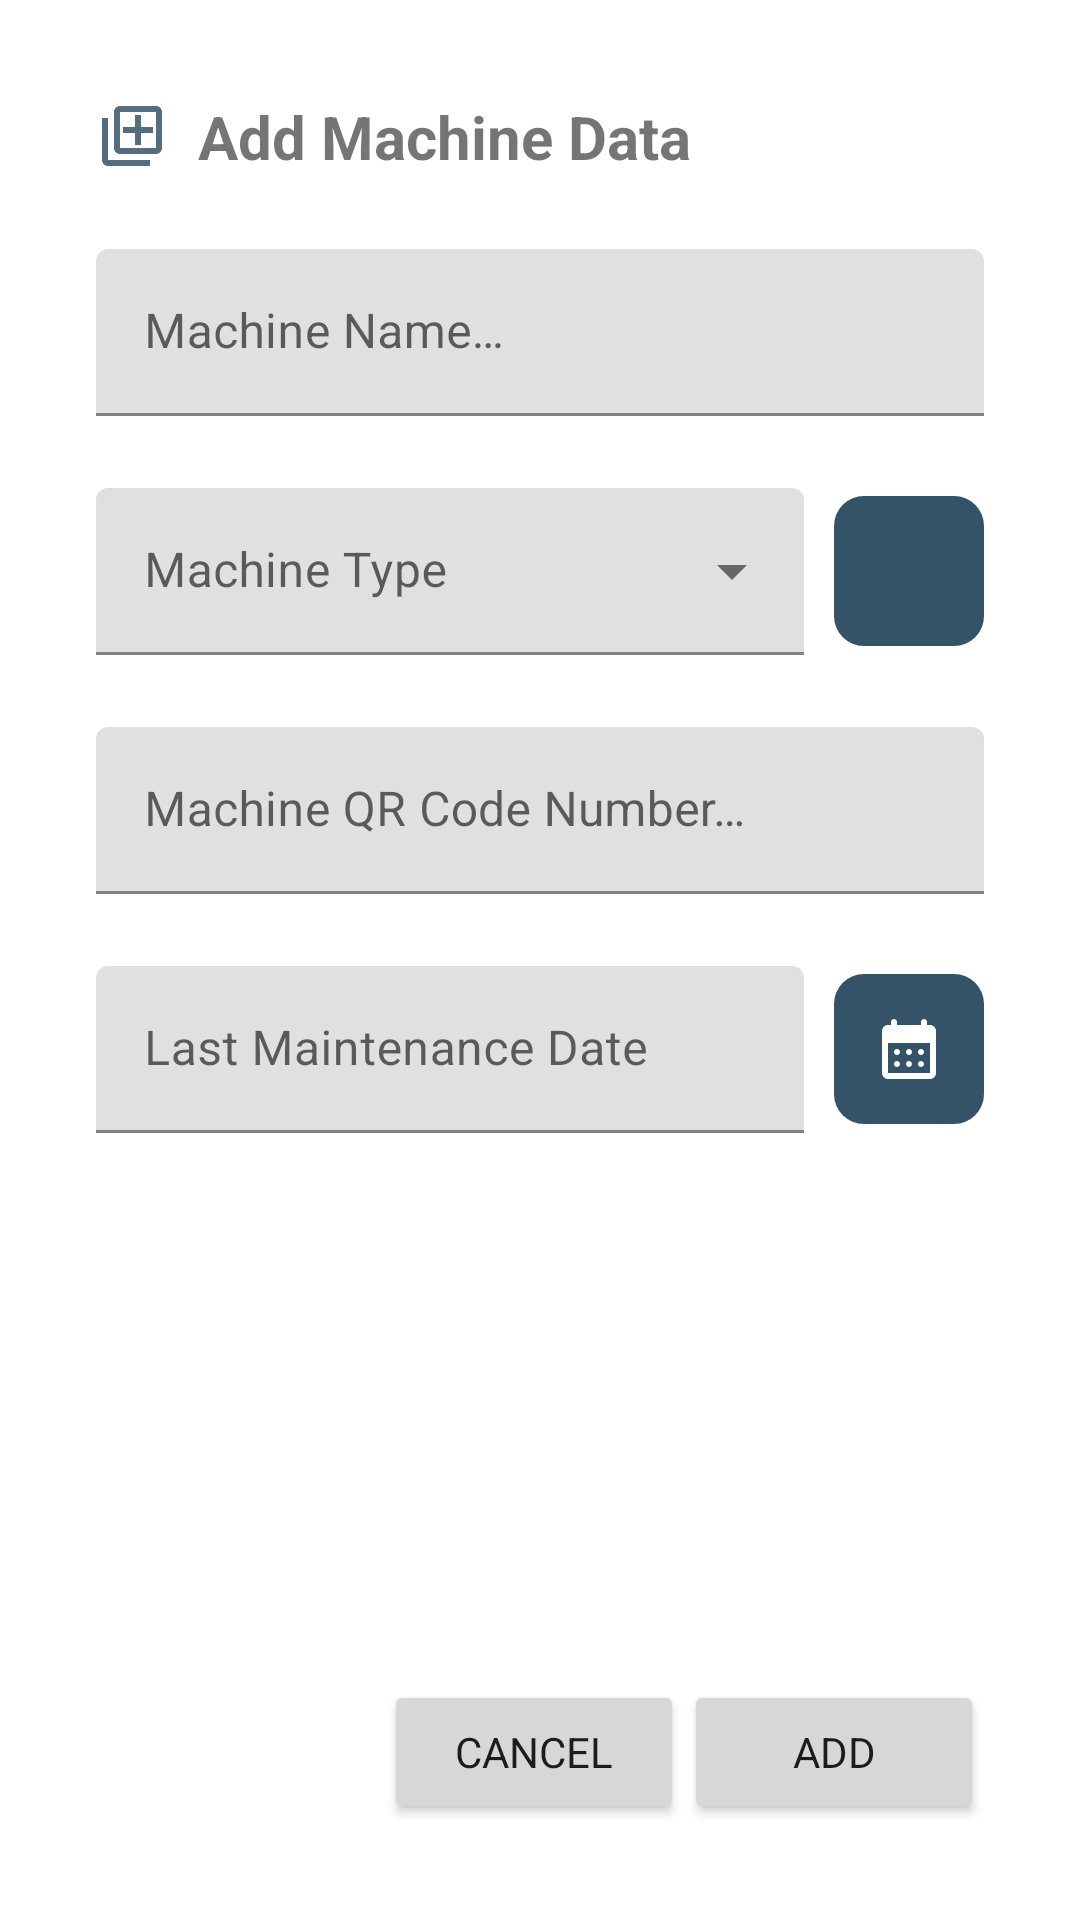

Locate icon controls on the screen. Image size 1080w x 1920h, boxes as {"left": x1, "top": y1, "right": x2, "bottom": y2}.
add to photos: {"left": 102, "top": 106, "right": 162, "bottom": 166}
calendar month: {"left": 882, "top": 1019, "right": 936, "bottom": 1079}
